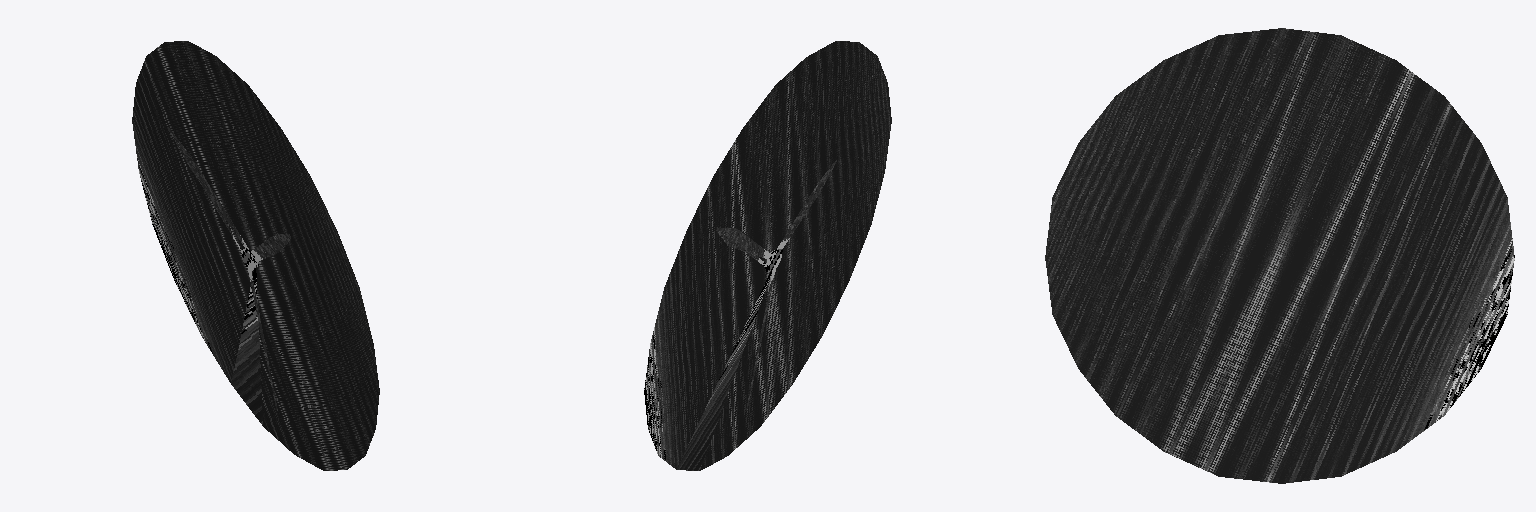
3 views of the same model, side by side, from view 1: azimuth 30°, elevation 25°; view 2: azimuth 150°, elevation 25°; view 3: azimuth 270°, elevation 25° (orthographic).
Parts seen in each view (by area): view 1: model_5; view 2: model_5; view 3: model_5.
Part boxes in pixels (x1,y1,x2,y2): model_5: (132, 41, 379, 470); model_5: (644, 41, 891, 470); model_5: (1045, 28, 1514, 483).
Bounding box in the file's own units: 0.0093 × 0.0474 × 0.0483.
Materials: 1 (1 with a texture image).